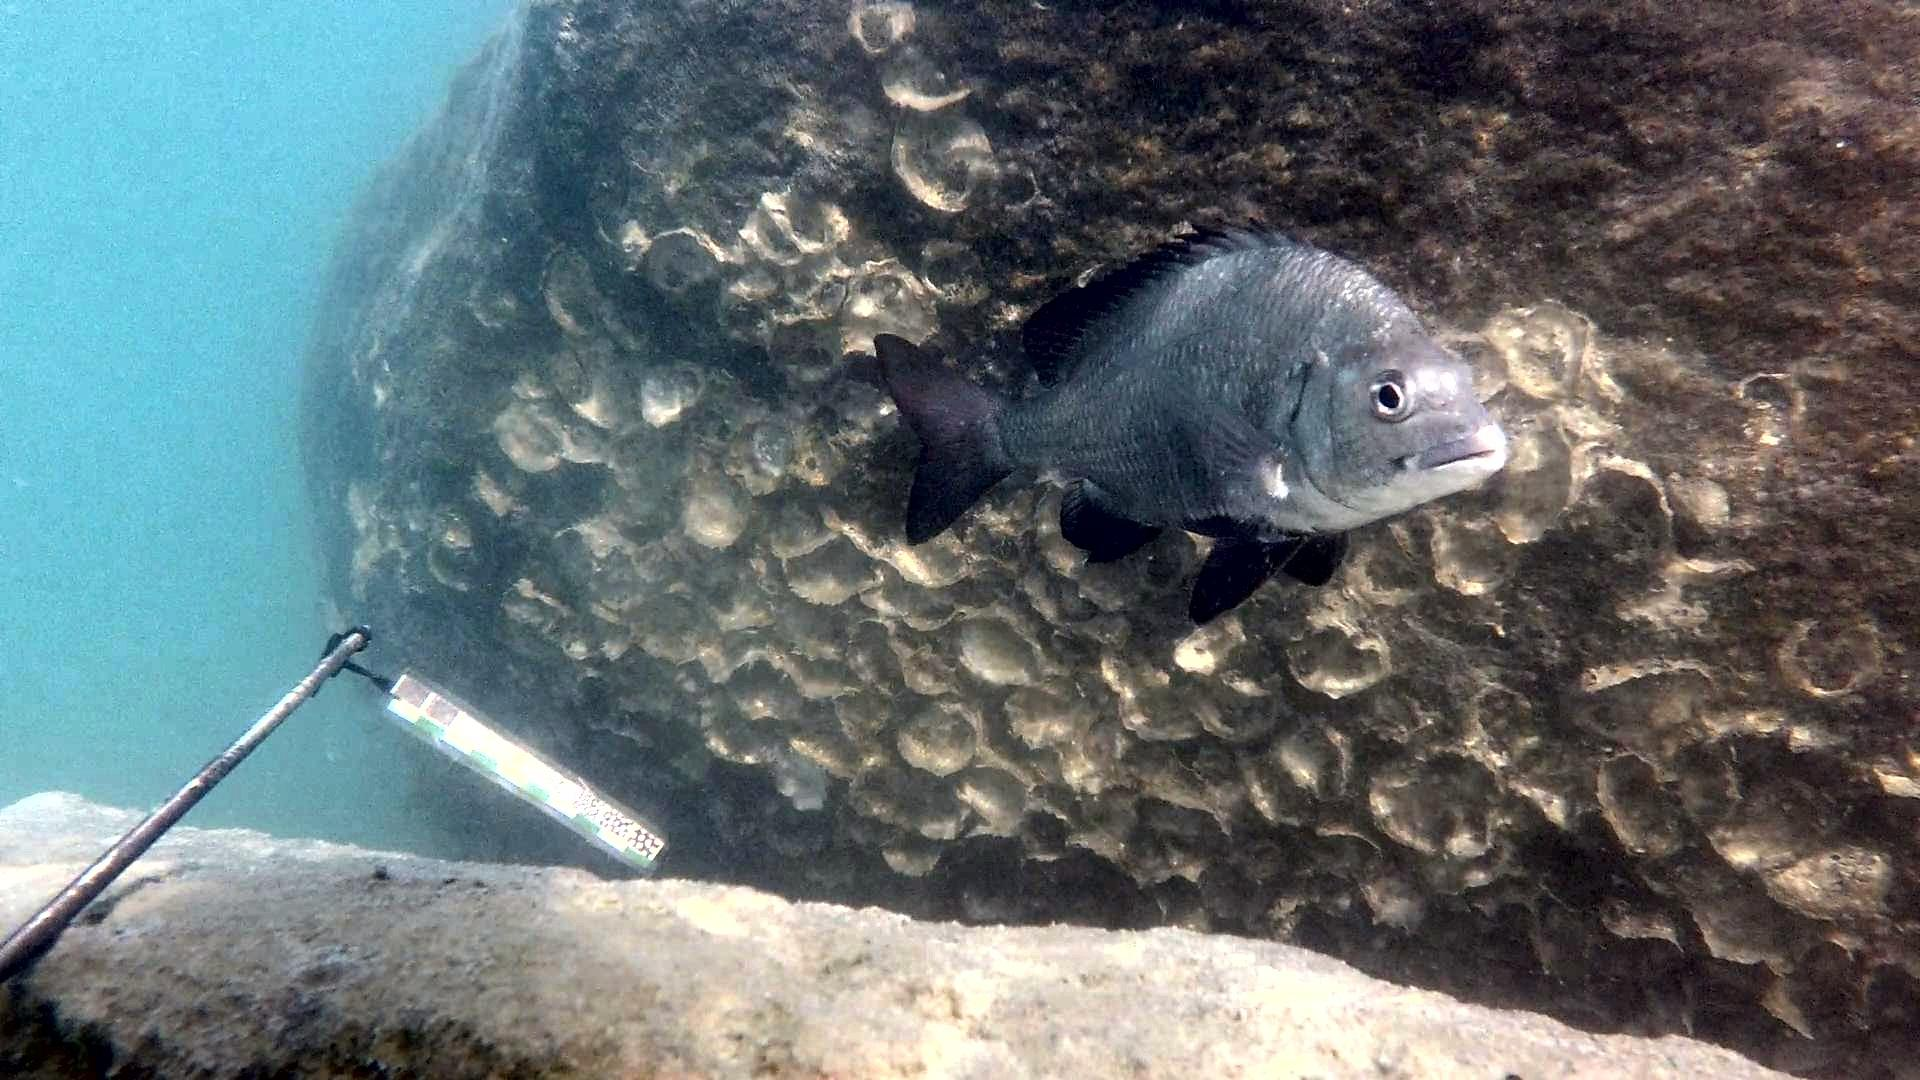acanthopagrus palmaris: (866, 206, 1525, 637)
